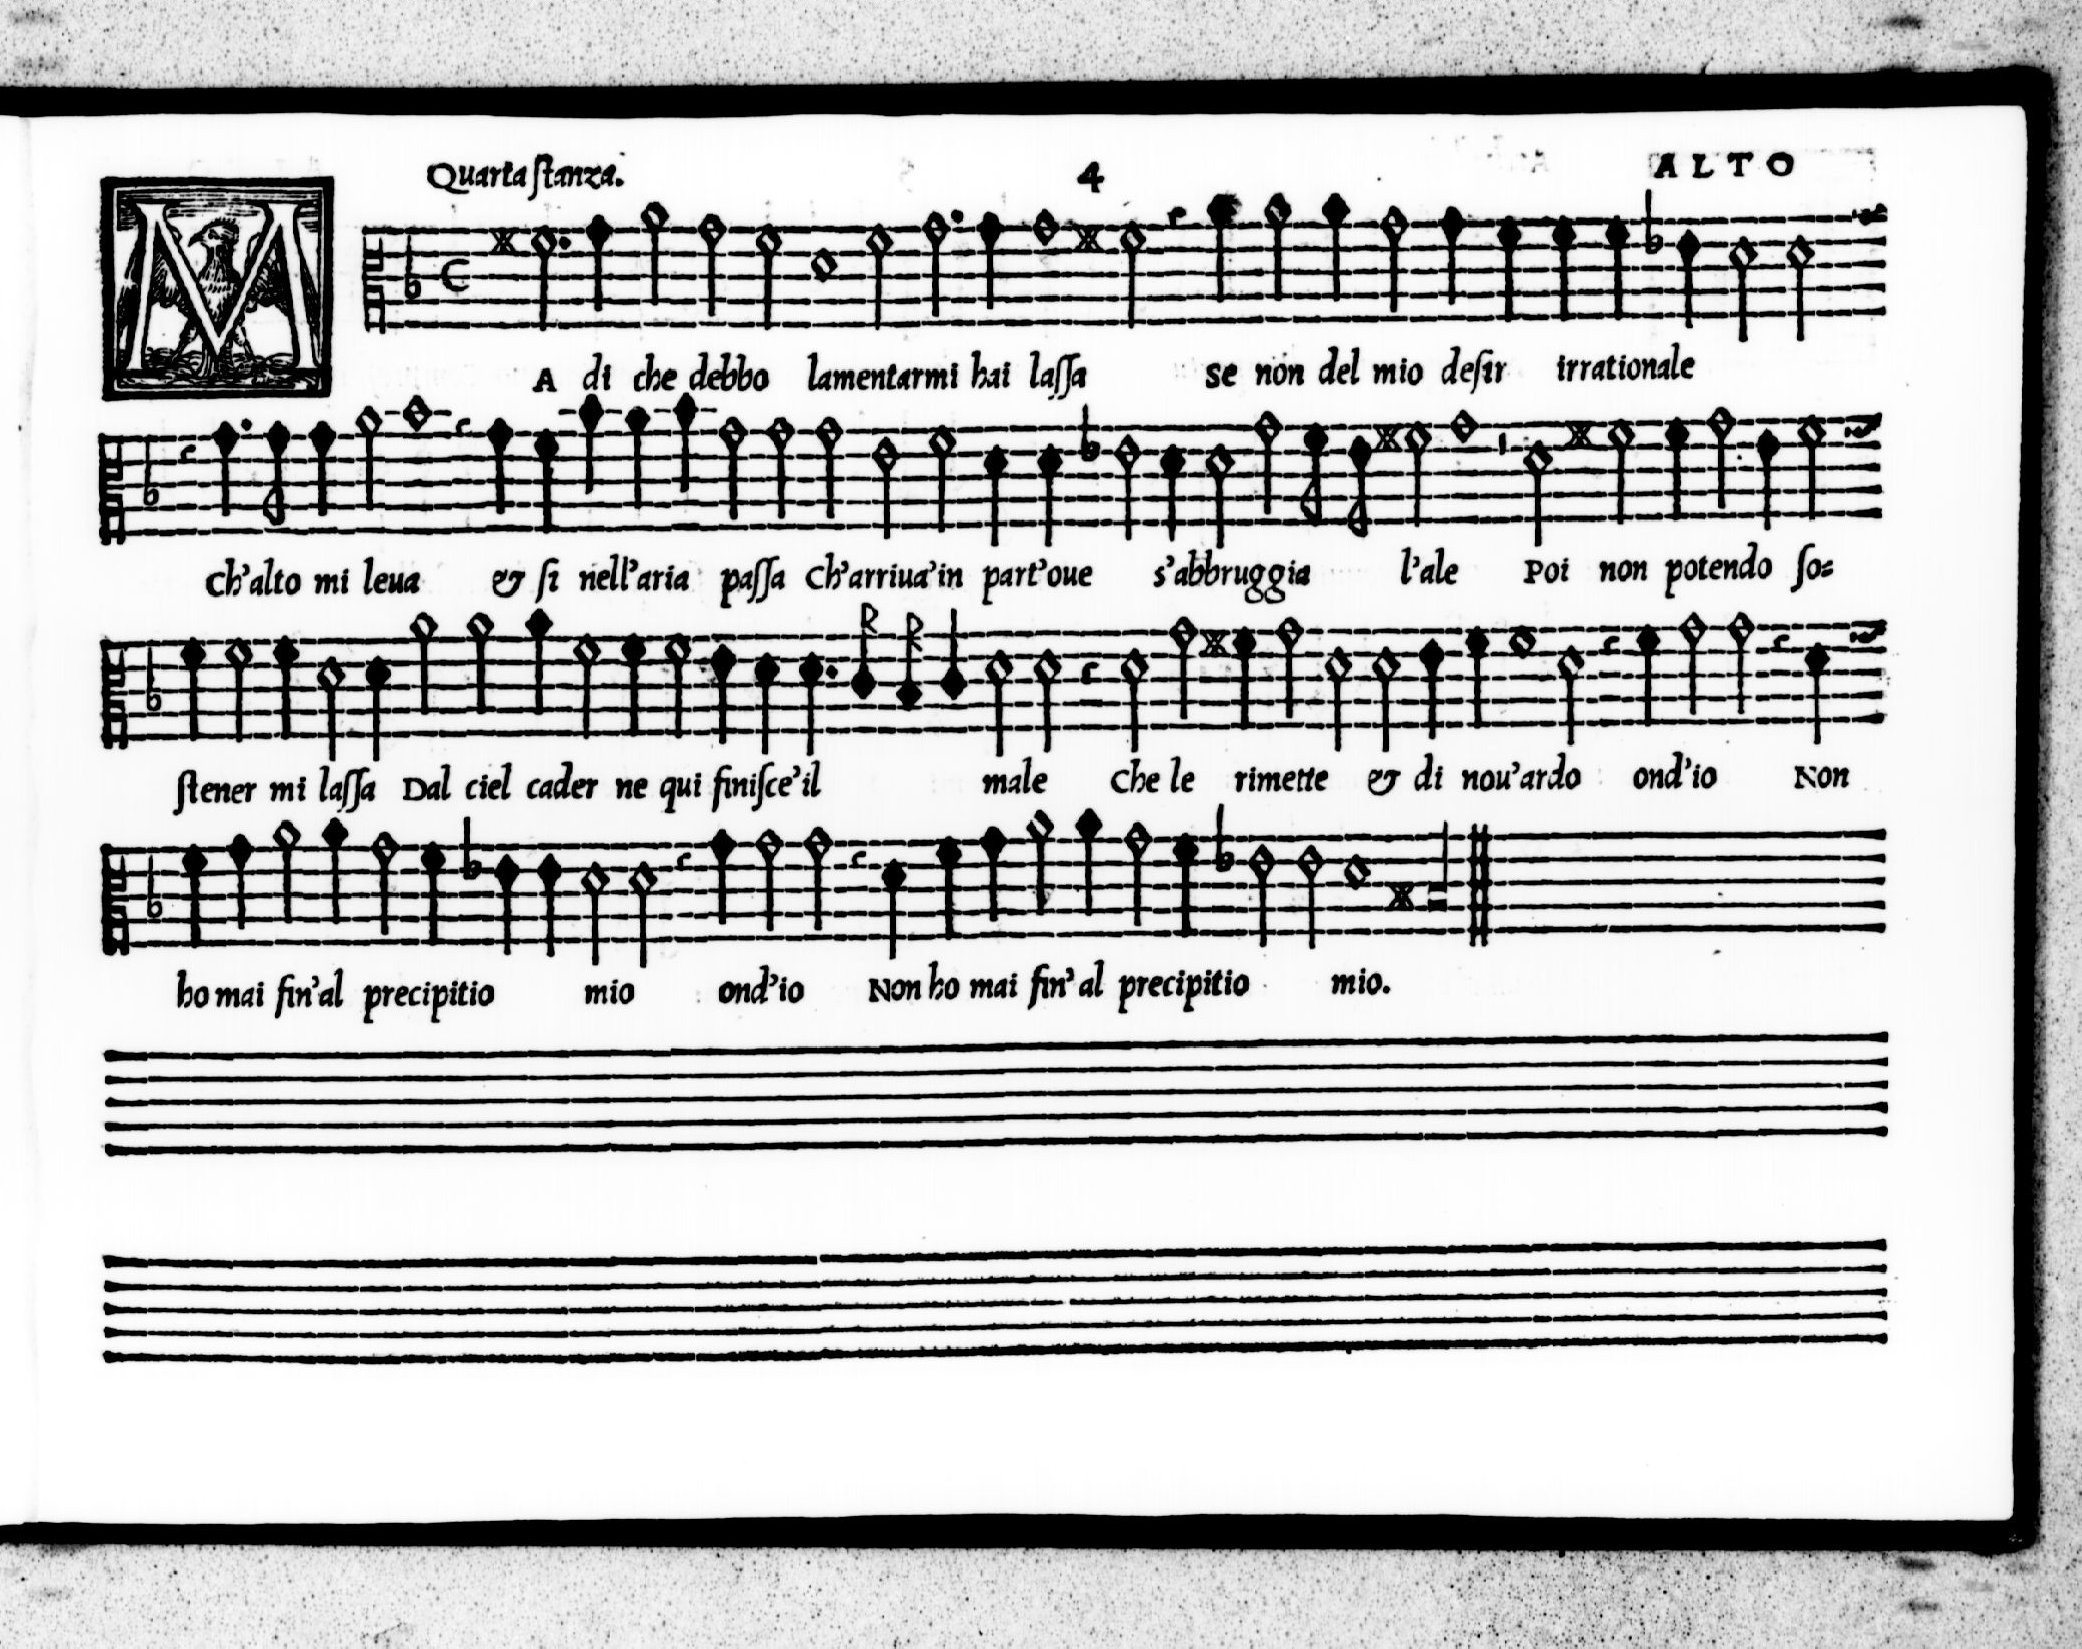barline: (1458, 809, 1496, 963)
c clef_7: (91, 836, 134, 963)
flat_5: (1200, 792, 1240, 892), (450, 801, 488, 901)
flat_8: (132, 862, 167, 934)
fusa rest: (838, 813, 870, 965), (666, 818, 696, 955)
longa_8: (1416, 818, 1458, 928)
minim_2: (1019, 794, 1058, 928), (264, 808, 304, 934)
minim_3: (796, 809, 837, 948), (362, 818, 401, 951), (749, 818, 788, 948), (1114, 808, 1151, 939)
minim_5: (1235, 833, 1283, 966), (1288, 824, 1328, 961)
minim_6: (619, 850, 661, 983), (576, 850, 613, 982)
semibreve_6: (1332, 840, 1381, 904)
semiminim_2: (313, 804, 357, 938), (1065, 799, 1105, 928)
semiminim_3: (970, 808, 1016, 936), (696, 818, 737, 936), (221, 819, 259, 938)
semiminim_4: (1161, 813, 1202, 950), (172, 830, 213, 963), (924, 823, 967, 950), (411, 824, 450, 955)
semiminim_5: (487, 836, 524, 963), (527, 840, 564, 965)
semiminim_6: (869, 841, 909, 970)
sharp: (1367, 867, 1421, 924)
